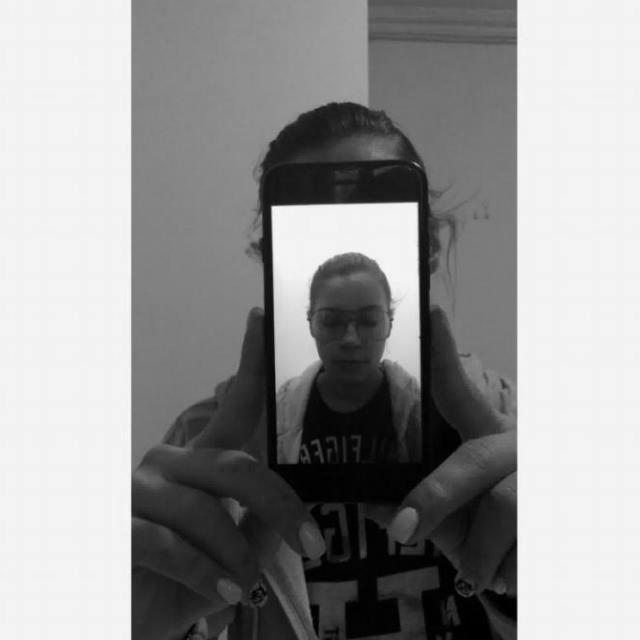fake: (254, 150, 440, 516)
